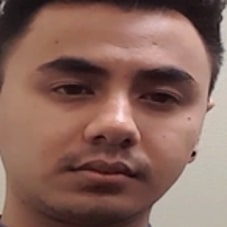drowsy: (34, 48, 197, 194)
